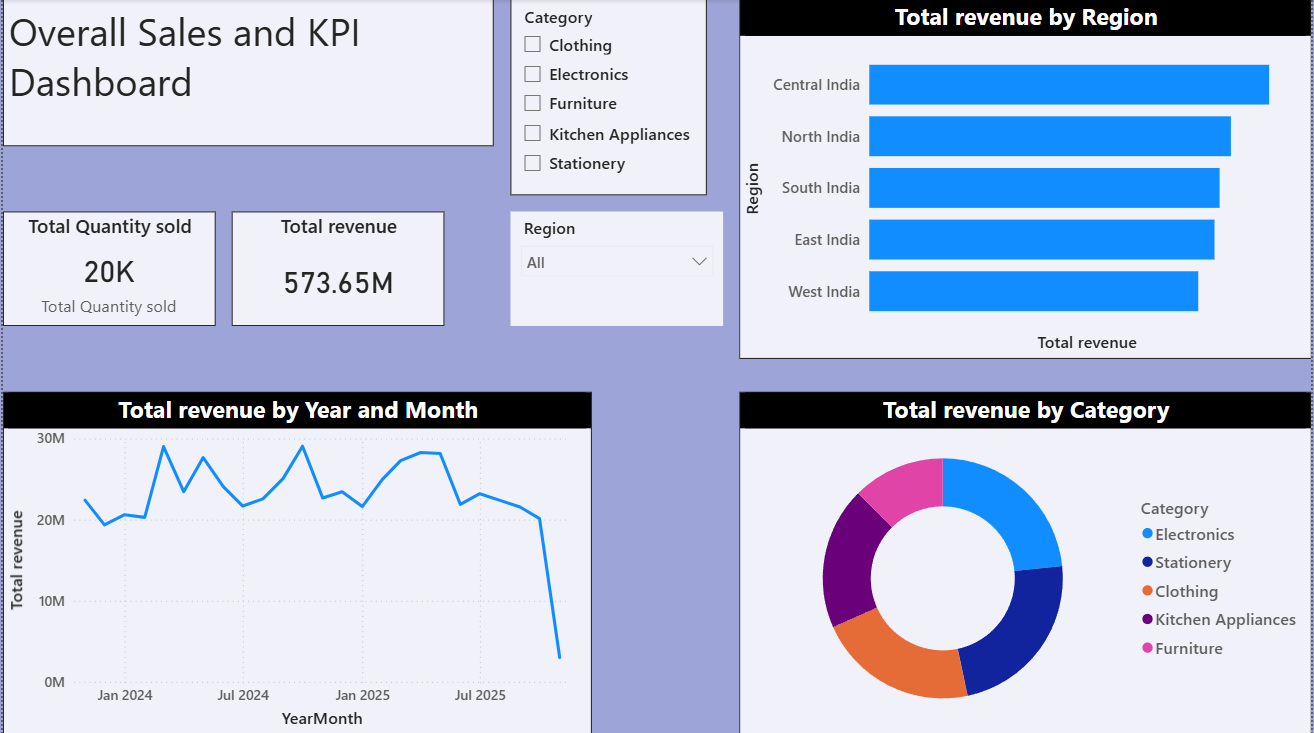

This screenshot's page, from the dashboard's own definition file:
{"tool":"powerbi","page":{"name":"Overall sales and kpi dasboard","canvas":[1280,720],"ordinal":0},"visuals":[{"type":"lineChart","fields":{"Y":["sales.Total revenue"],"Category":["sales.Date.Variation.Date Hierarchy.Year","sales.Date.Variation.Date Hierarchy.Month"]},"box":[0,384,576,336],"z":0},{"type":"clusteredBarChart","fields":{"Category":["sales.Region"],"Y":["sales.Total revenue"]},"box":[720,16,560,352],"z":1000},{"type":"donutChart","fields":{"Category":["product_master.Category"],"Y":["sales.Total revenue"]},"box":[720,384,560,336],"z":2000},{"type":"card","fields":{"Values":["sales.Total revenue"]},"box":[272,192,208,112],"z":3000},{"type":"card","fields":{"Values":["sales.Total Quantity sold"]},"box":[0,192,208,112],"z":4000},{"type":"textbox","box":[0,0,480,144],"z":4001},{"type":"slicer","fields":{"Values":["product_master.Category"]},"box":[496,0,192,192],"z":4002},{"type":"slicer","fields":{"Values":["sales.Region"]},"box":[496,208,208,112],"z":4003}]}

Visuals, with their boxes in screenshot pixels (x1, y1, x2, y2), scaled from the page's 1280x720 canvas onto the 1314x733 screenshot:
lineChart - sales.Total revenue x sales.Date.Variation.Date Hierarchy.Year: [x1=0, y1=391, x2=591, y2=732]
clusteredBarChart - sales.Region x sales.Total revenue: [x1=739, y1=16, x2=1313, y2=375]
donutChart - product_master.Category x sales.Total revenue: [x1=739, y1=391, x2=1313, y2=732]
card - sales.Total revenue: [x1=279, y1=195, x2=493, y2=309]
card - sales.Total Quantity sold: [x1=0, y1=195, x2=214, y2=309]
textbox: [x1=0, y1=0, x2=493, y2=147]
slicer - product_master.Category: [x1=509, y1=0, x2=706, y2=195]
slicer - sales.Region: [x1=509, y1=212, x2=723, y2=326]
